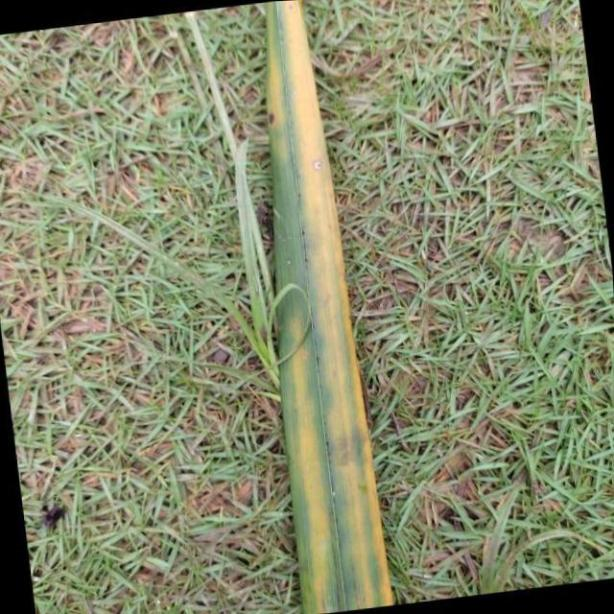Megnesium: (264, 0, 395, 614)
